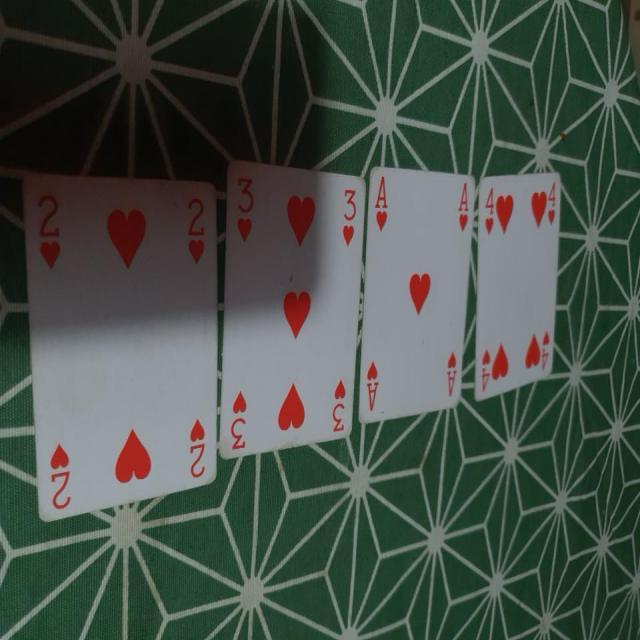2 of hearts: (16, 157, 224, 524)
3 of hearts: (218, 146, 358, 464)
4 of hearts: (474, 169, 564, 403)
ace of hearts: (359, 166, 475, 420)
